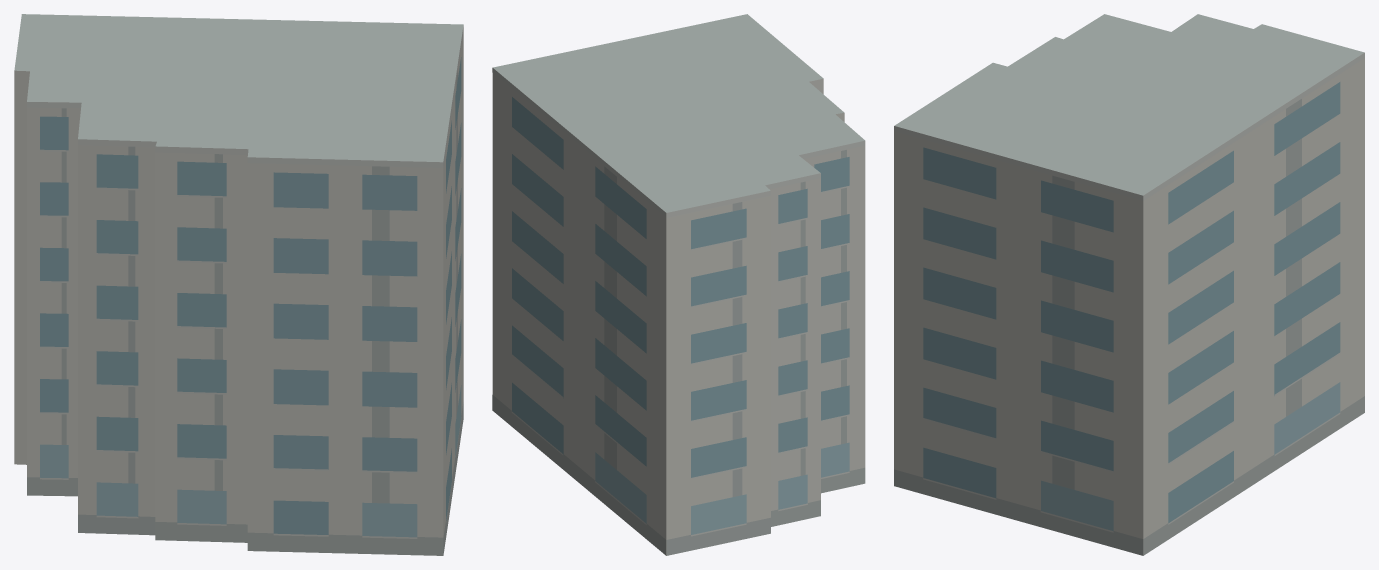
The model's file is survey-upis-32544599.glb.
3 views of the same model, side by side, from view 1: azimuth 30°, elevation 25°; view 2: azimuth 150°, elevation 25°; view 3: azimuth 270°, elevation 25° (orthographic). The views are drawn at different scales.
Parts seen in each view (by area): view 1: survey-upis-32544599.tmp; view 2: survey-upis-32544599.tmp; view 3: survey-upis-32544599.tmp.
Boxes of the visible parts, <box> form: survey-upis-32544599.tmp: <box>14,14,463,555</box>; survey-upis-32544599.tmp: <box>492,14,865,555</box>; survey-upis-32544599.tmp: <box>894,14,1364,555</box>.
Size of the model in its own units: 17.75 by 16.4 by 19.43.
